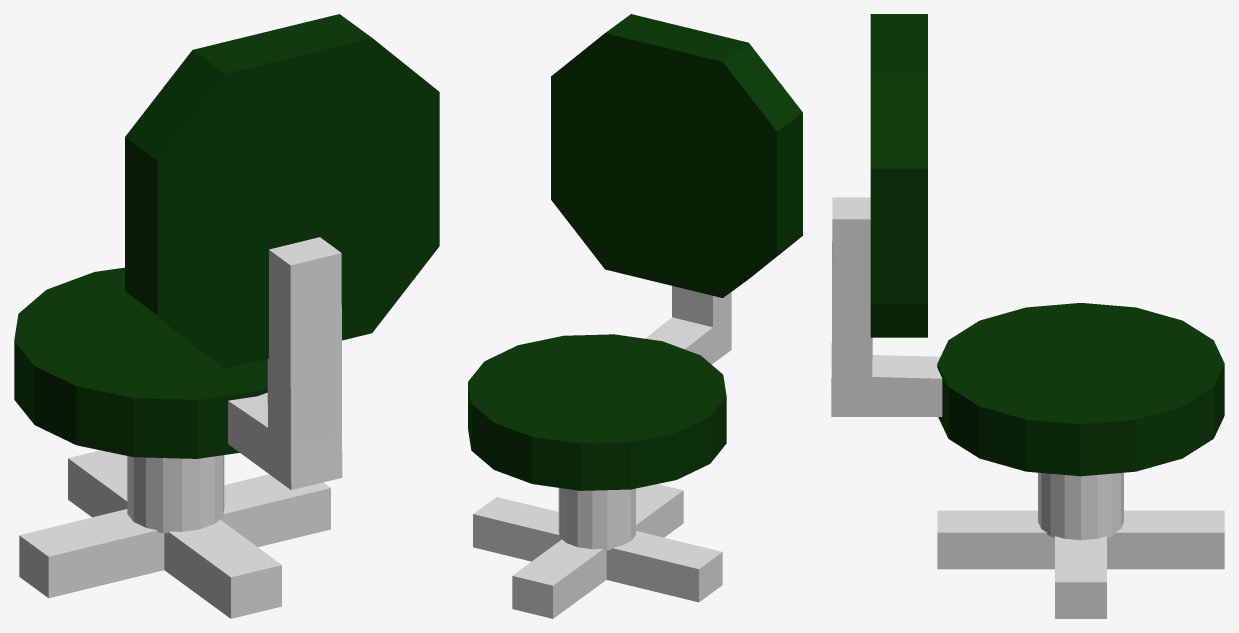
Rendered from chair.glb.
3 views of the same model, side by side, from view 1: azimuth 30°, elevation 25°; view 2: azimuth 150°, elevation 25°; view 3: azimuth 270°, elevation 25° (orthographic). The views are drawn at different scales.
Visible parts, largest first — view 1: chair; view 2: chair; view 3: chair.
Part boxes in pixels (bbox=[...]): chair: bbox=[14, 14, 439, 618]; chair: bbox=[468, 14, 802, 618]; chair: bbox=[831, 14, 1224, 618].
Bounding box in the file's own units: 2.03 × 3.95 × 2.74.
